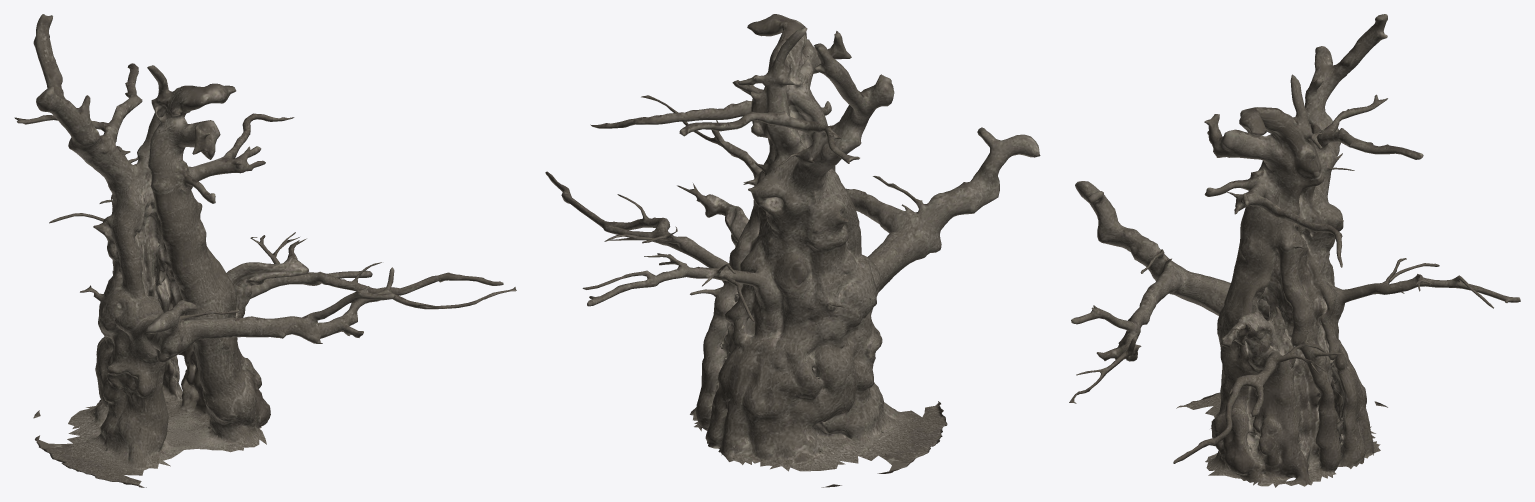
File: tree_oak_old.glb
The picture shows the model from 3 angles, left to right: view 1: azimuth 30°, elevation 25°; view 2: azimuth 150°, elevation 25°; view 3: azimuth 270°, elevation 25°; orthographic projection. The views are drawn at different scales.
Visible parts, largest first — view 1: tree_oak_old; view 2: tree_oak_old; view 3: tree_oak_old.
Part boxes in pixels (left/top/right/bottom): tree_oak_old: left=14, top=14, right=516, bottom=487; tree_oak_old: left=545, top=14, right=1040, bottom=487; tree_oak_old: left=1069, top=14, right=1520, bottom=487.
Size of the model in its own units: 8.94 by 8.46 by 8.74.
1 material, 1 textured.
